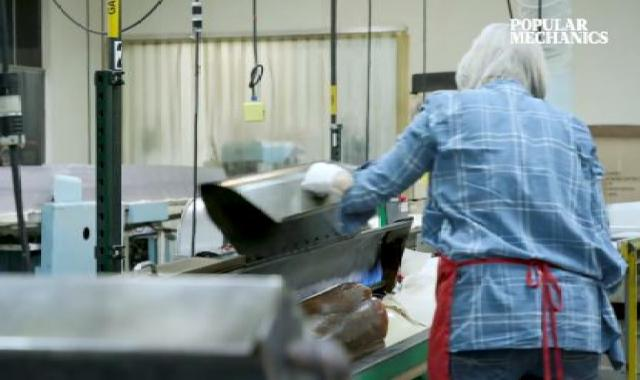hairnet: (452, 20, 555, 100)
